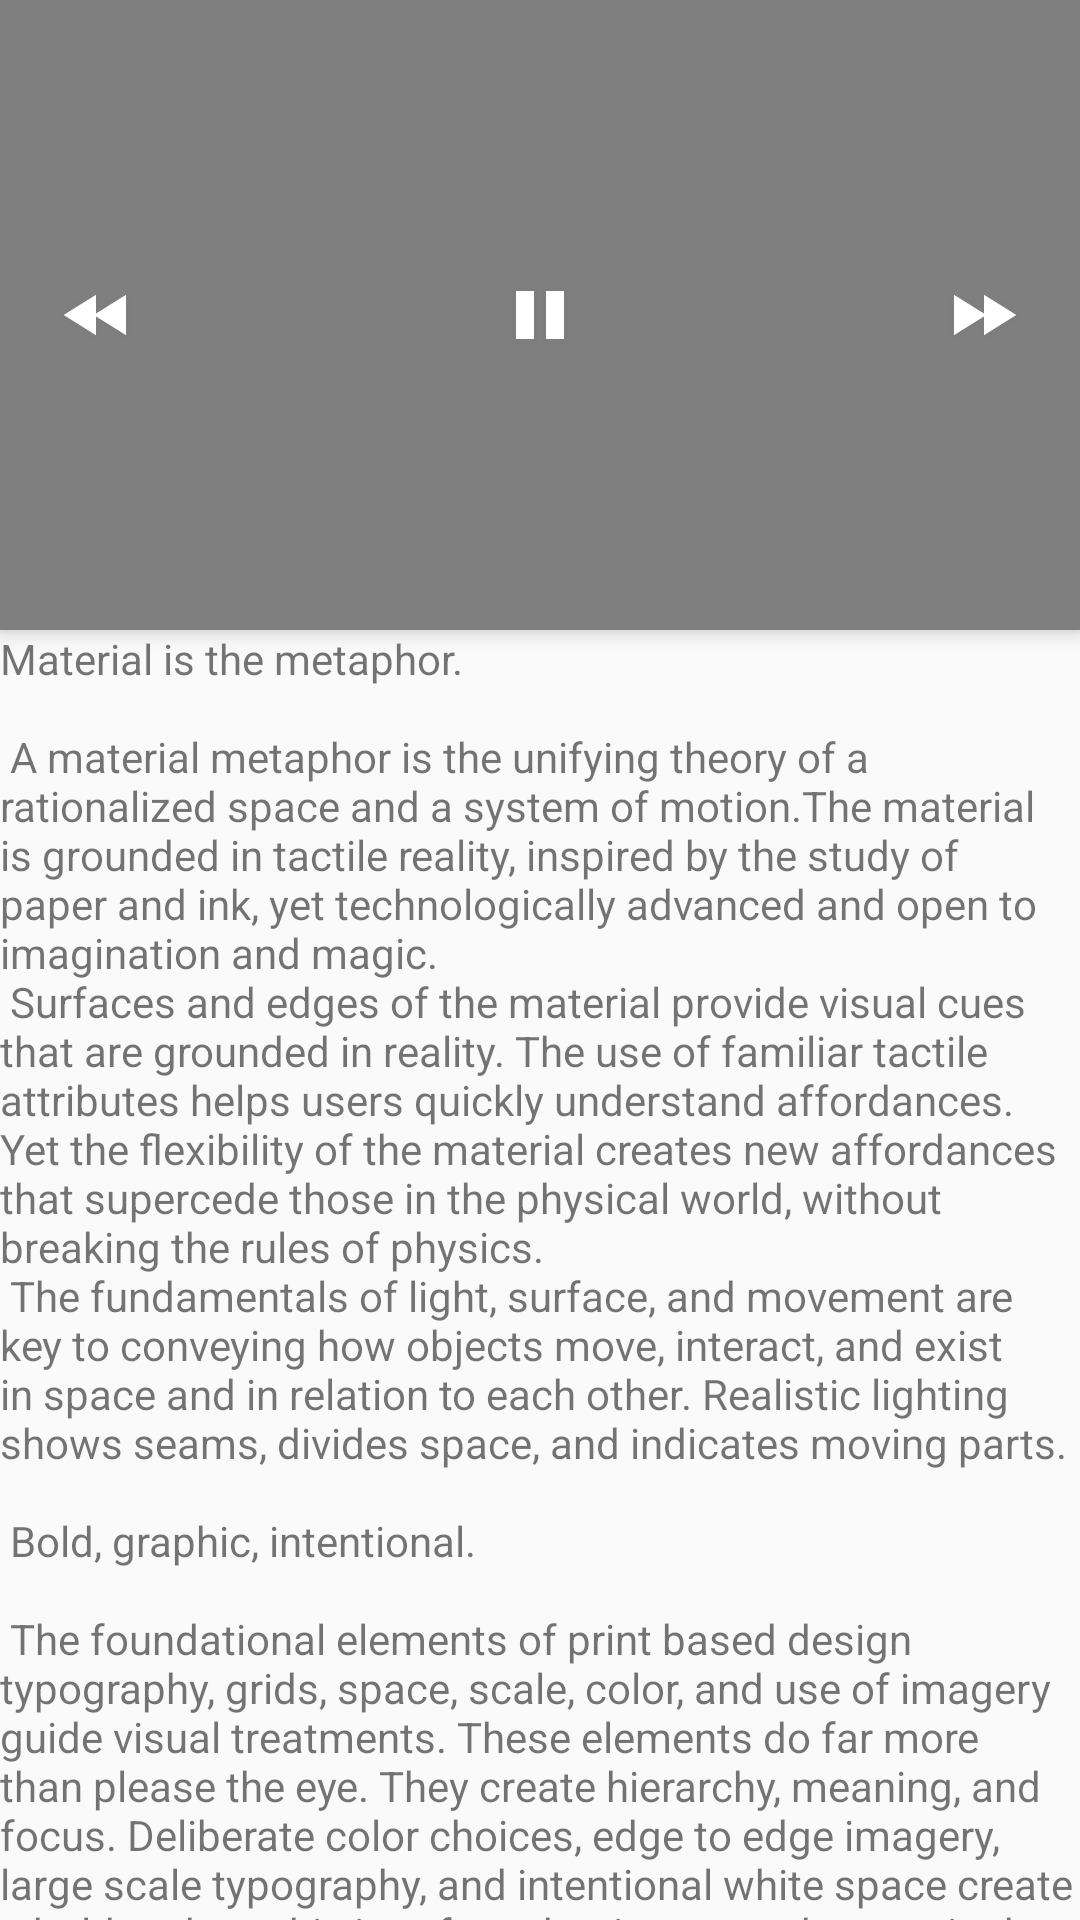

Named icons in this screenshot (1080 x 1920) and their bounding boxes, box(x1, y1, x2, y2):
pause: box(516, 291, 564, 339)
rew: box(64, 295, 126, 335)
